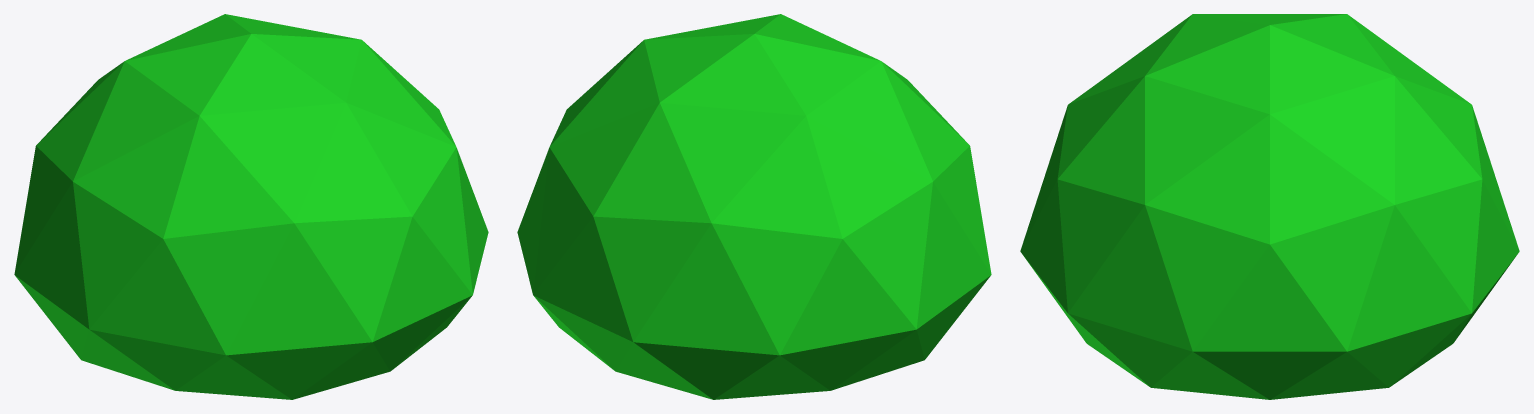
The model's file is Bush.fbx.
3 views of the same model, side by side, from view 1: azimuth 30°, elevation 25°; view 2: azimuth 150°, elevation 25°; view 3: azimuth 270°, elevation 25° (orthographic). The views are drawn at different scales.
Parts seen in each view (by area): view 1: Bush; view 2: Bush; view 3: Bush.
Part boxes in pixels (box(x1,y1,x2,y2)): Bush: box(14, 14, 488, 399); Bush: box(517, 14, 991, 399); Bush: box(1020, 14, 1519, 399).
Bounding box in the file's own units: 230 × 157 × 242.
1 material, 1 textured.
